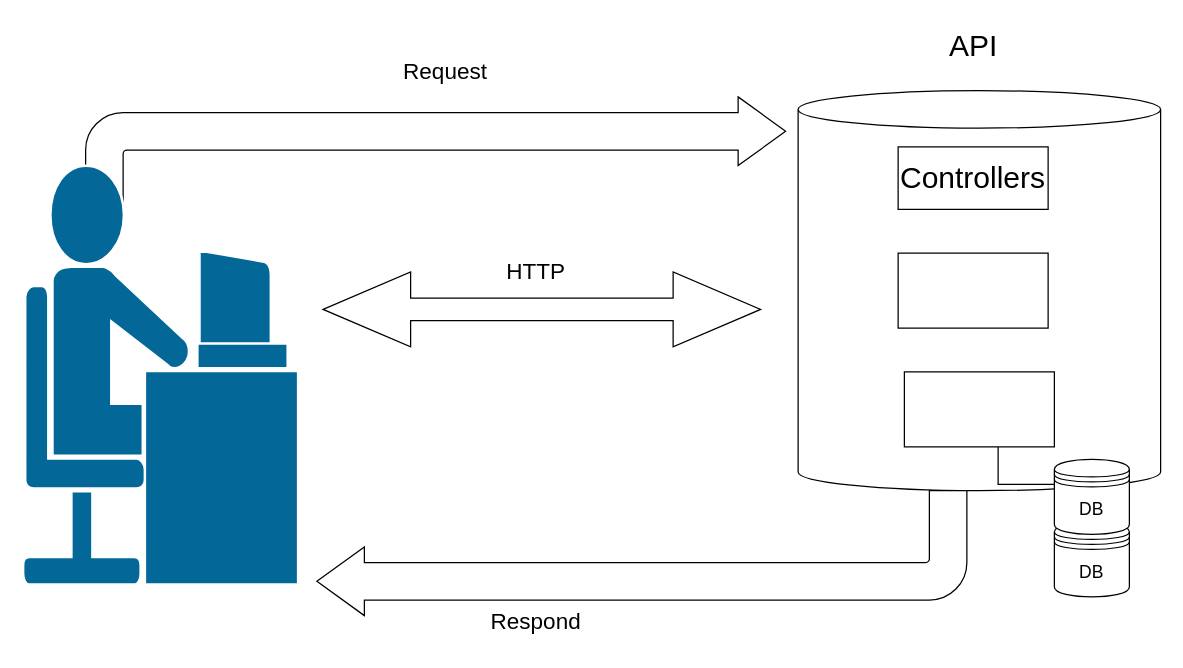
Image size: 1183x668. Some labels were removed from this diagram. The centre of each missing label's shape, as x and y in pixels:
"Models" goes at point 972,290.
"Repo" goes at point 978,409.
